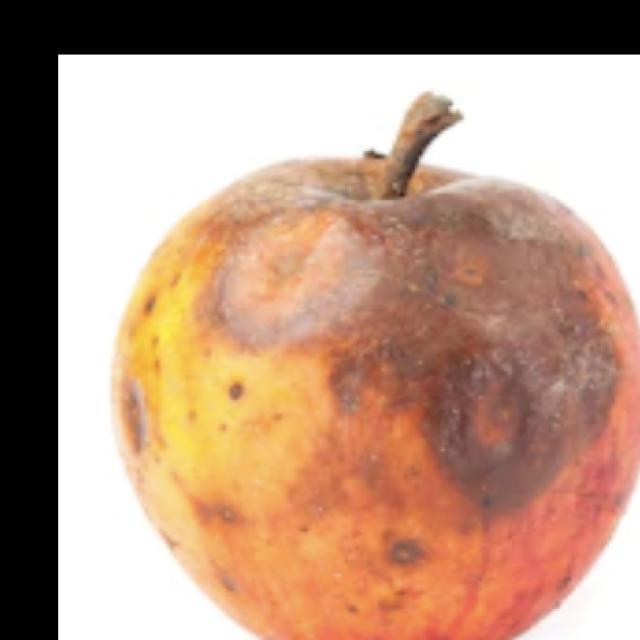Rotten: (128, 136, 640, 639)
